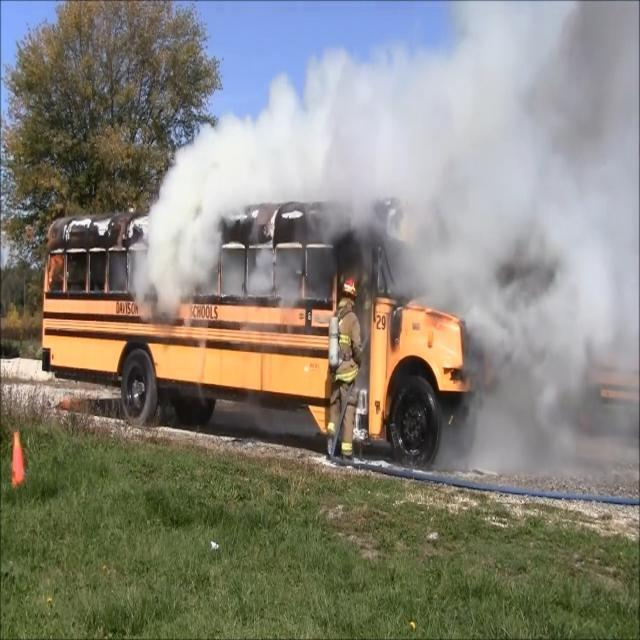Smoke: (466, 18, 637, 478)
